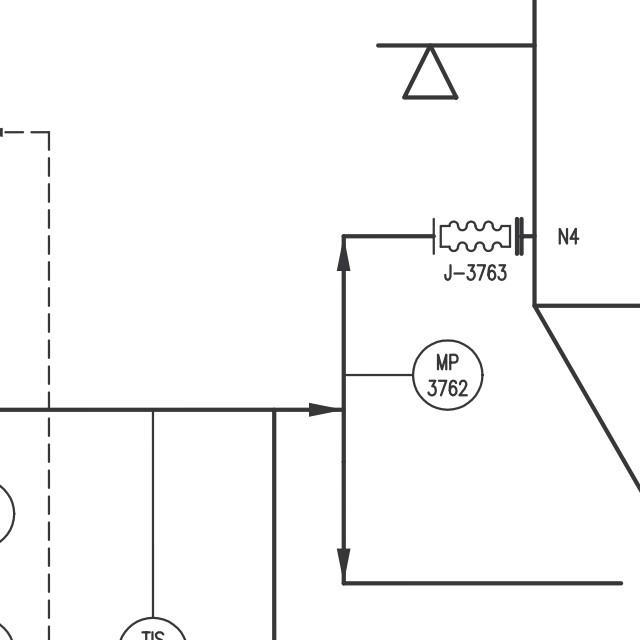EJ: (426, 213, 520, 256)
